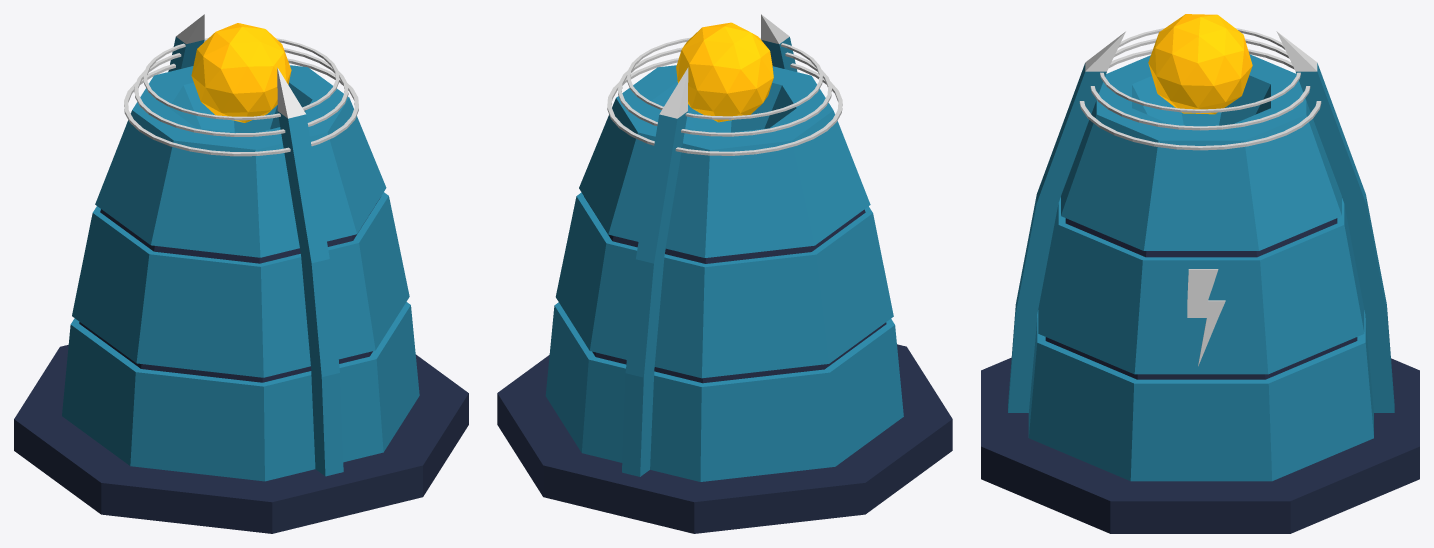
The model's file is Generator.fbx.
The picture shows the model from 3 angles, left to right: view 1: azimuth 30°, elevation 25°; view 2: azimuth 150°, elevation 25°; view 3: azimuth 270°, elevation 25°; orthographic projection. The views are drawn at different scales.
Visible parts, largest first — view 1: Куб.002, Икосфера; view 2: Куб.002, Икосфера; view 3: Куб.002, Икосфера, Плоскость.
Boxes of the visible parts, x1,y1,x2,y2 form: Куб.002: [14, 14, 468, 533]; Икосфера: [191, 23, 291, 122]; Куб.002: [497, 14, 952, 533]; Икосфера: [676, 22, 773, 122]; Куб.002: [981, 28, 1419, 533]; Икосфера: [1148, 14, 1252, 114]; Плоскость: [1187, 269, 1225, 366].
Bounding box in the file's own units: 321 × 343 × 321.
